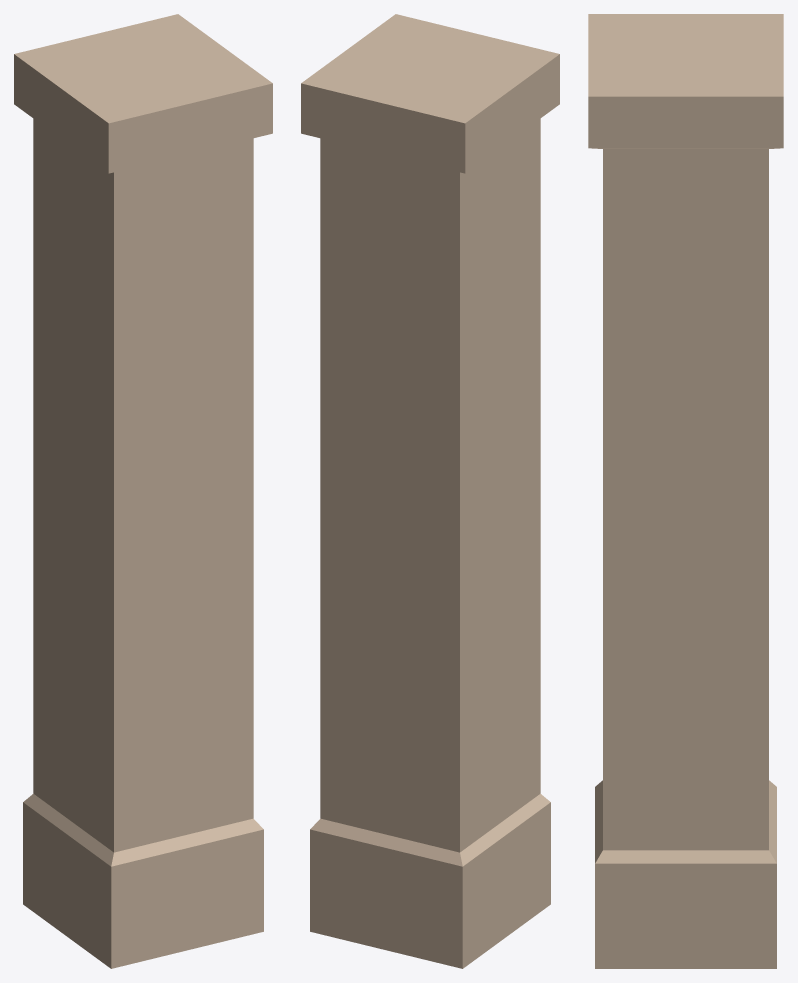
Rendered from BC_Pillar_G.fbx.
The picture shows the model from 3 angles, left to right: view 1: azimuth 30°, elevation 25°; view 2: azimuth 150°, elevation 25°; view 3: azimuth 270°, elevation 25°; orthographic projection. The views are drawn at different scales.
Parts seen in each view (by area): view 1: BC_Pillar_G; view 2: BC_Pillar_G; view 3: BC_Pillar_G.
Part boxes in pixels (box(x1,y1,x2,y2)): BC_Pillar_G: box(14, 14, 272, 968); BC_Pillar_G: box(301, 14, 559, 968); BC_Pillar_G: box(588, 14, 783, 968).
Bounding box in the file's own units: 118 × 582 × 118.
